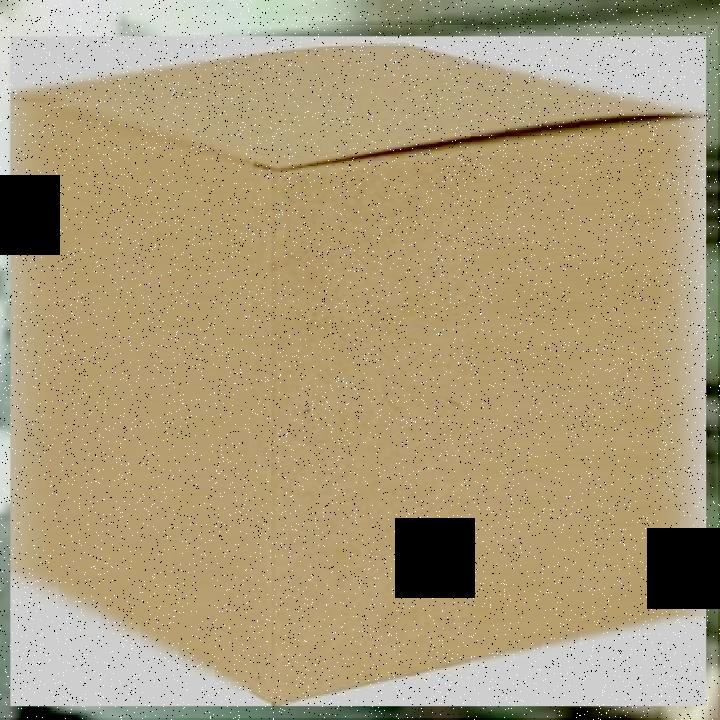box: (0, 25, 718, 718)
